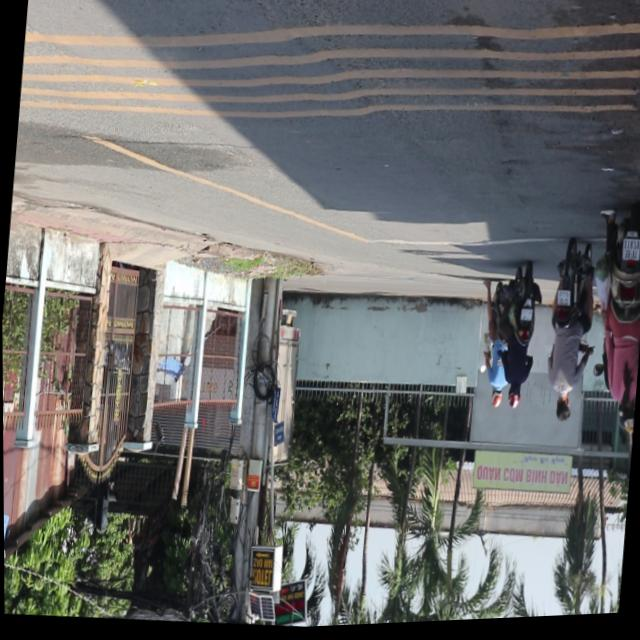helmet: (617, 405, 635, 441), (612, 403, 626, 439)
licenseplate: (578, 206, 640, 442)
nohelmet: (620, 243, 639, 266)
